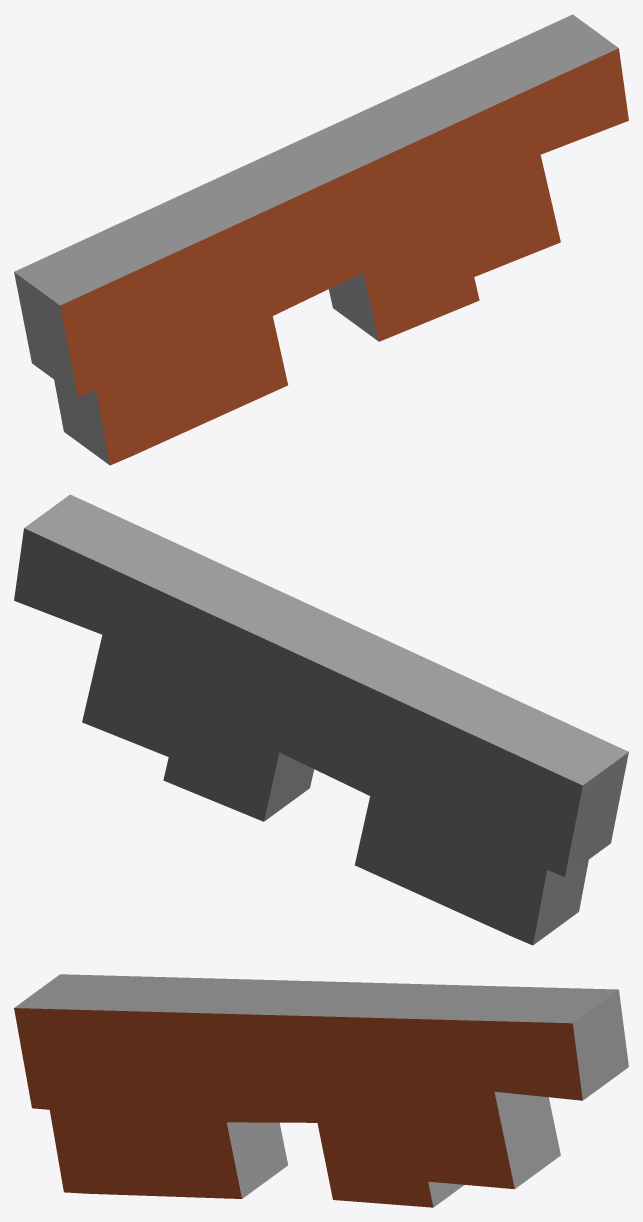
The model's file is construction_0517_assumed_A_Casa_h6m.obj.
3 renders of one model, top to bottom at view 1: azimuth 30°, elevation 25°; view 2: azimuth 150°, elevation 25°; view 3: azimuth 330°, elevation 25°, orthographic.
Parts seen in each view (by area): view 1: construction_0517_assumed_A_Casa; view 2: construction_0517_assumed_A_Casa; view 3: construction_0517_assumed_A_Casa.
Boxes of the visible parts, x1,y1,x2,y2 form: construction_0517_assumed_A_Casa: (14,14,628,465); construction_0517_assumed_A_Casa: (14,494,628,945); construction_0517_assumed_A_Casa: (14,974,628,1207).
Bounding box in the file's own units: 42.71 × 21.04 × 6.
